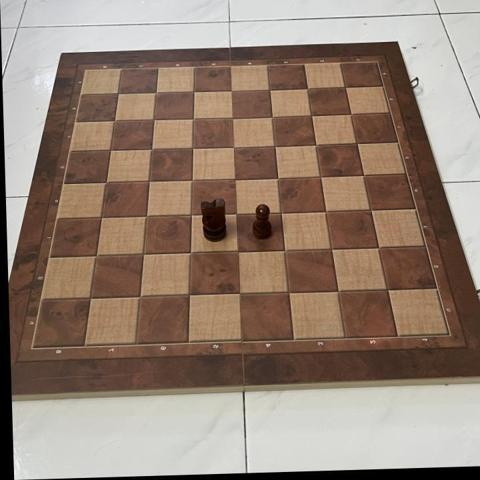xcorner: (338, 78, 356, 96), (304, 106, 322, 124), (185, 139, 203, 157), (313, 167, 331, 185), (263, 80, 280, 98), (301, 79, 318, 97), (107, 112, 124, 130), (344, 105, 361, 123), (144, 141, 162, 158), (350, 134, 367, 152), (185, 171, 202, 189), (184, 206, 201, 224), (318, 202, 336, 219), (133, 288, 150, 306), (231, 285, 249, 302), (281, 283, 298, 301), (379, 280, 396, 298), (111, 85, 128, 102), (149, 84, 166, 101), (187, 83, 204, 100), (225, 82, 242, 99), (147, 111, 164, 128), (186, 110, 203, 127), (226, 109, 243, 126), (265, 108, 282, 125), (103, 142, 120, 159), (227, 138, 244, 155), (268, 137, 285, 154), (309, 136, 326, 153), (99, 174, 116, 191), (142, 173, 159, 190), (228, 170, 245, 187), (271, 169, 288, 186), (356, 166, 373, 183), (94, 209, 111, 226), (139, 208, 156, 225), (229, 205, 246, 222), (274, 204, 291, 221), (363, 201, 380, 218), (89, 248, 106, 265), (136, 246, 153, 263), (183, 245, 200, 262), (230, 243, 247, 260), (277, 242, 294, 259), (324, 240, 341, 257), (371, 239, 388, 256), (83, 290, 100, 307), (182, 287, 199, 304), (330, 282, 347, 299)
